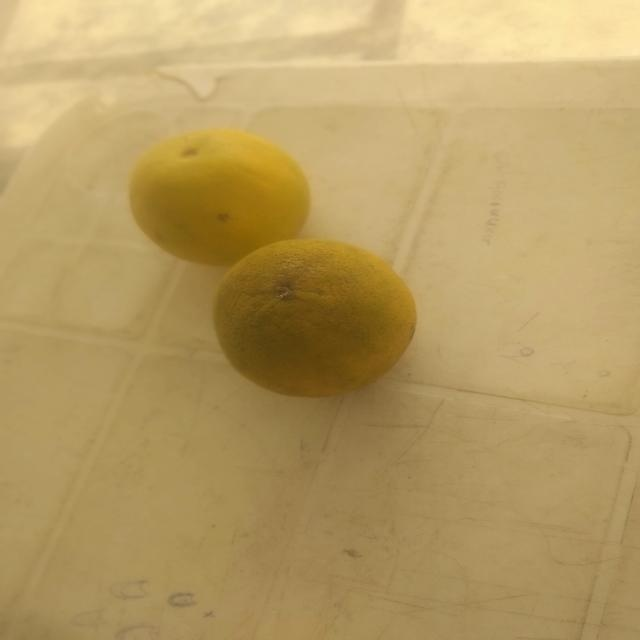agrume: (204, 235, 426, 412), (120, 129, 306, 268)
